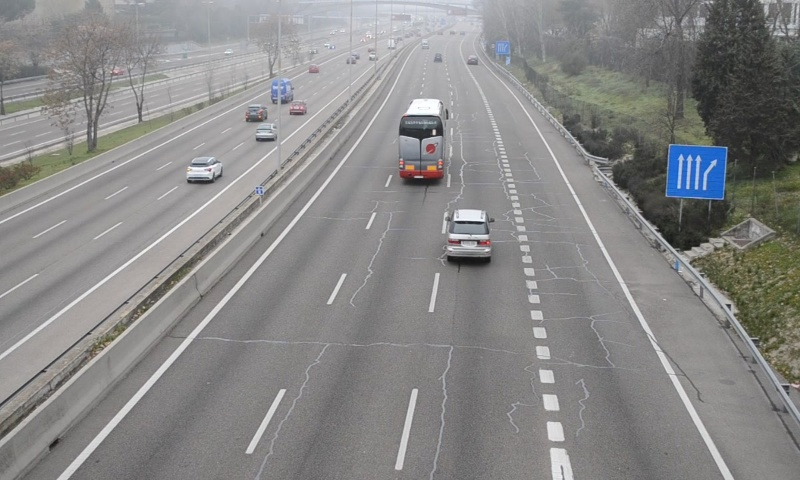bus: (396, 98, 446, 182)
car: (446, 208, 494, 260)
